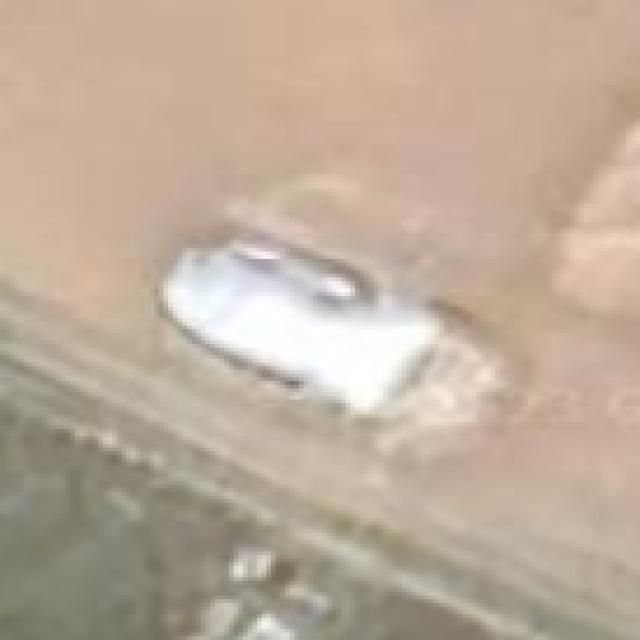Batiment: (163, 238, 440, 413)
